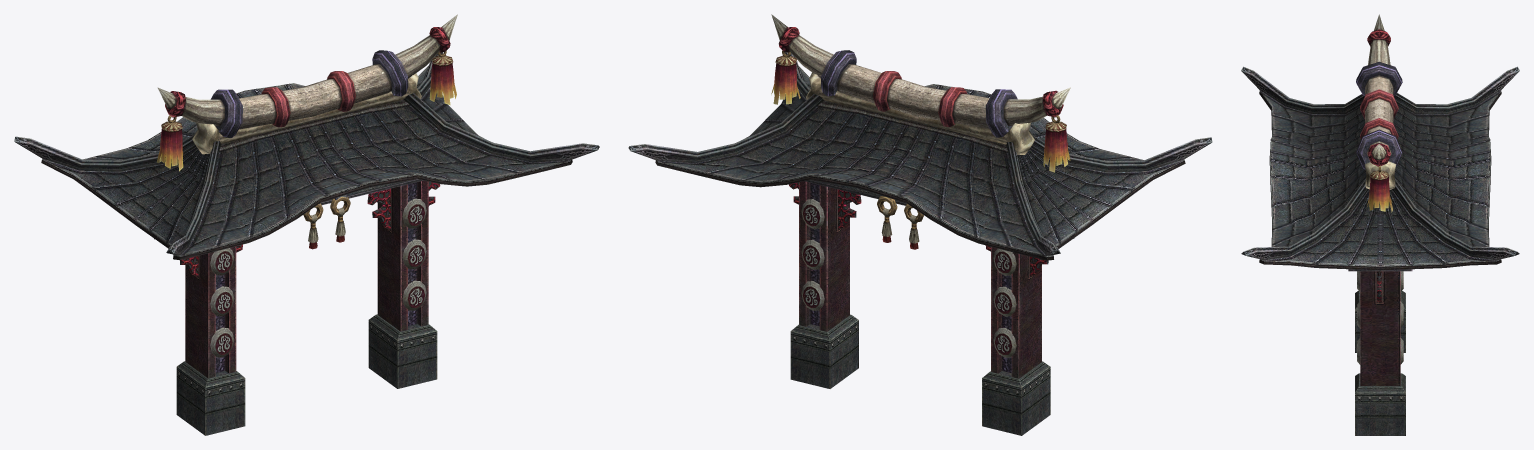
The model's file is flame_arch.fbx.
3 renders of one model, left to right at view 1: azimuth 30°, elevation 25°; view 2: azimuth 150°, elevation 25°; view 3: azimuth 270°, elevation 25°, orthographic. The views are drawn at different scales.
Parts seen in each view (by area): view 1: flame_arch1; view 2: flame_arch1; view 3: flame_arch1.
Part boxes in pixels (left/top/right/bottom): flame_arch1: left=14, top=14, right=599, bottom=435; flame_arch1: left=628, top=14, right=1212, bottom=435; flame_arch1: left=1241, top=14, right=1519, bottom=435.
Bounding box in the file's own units: 25.26 × 19.32 × 15.9.
